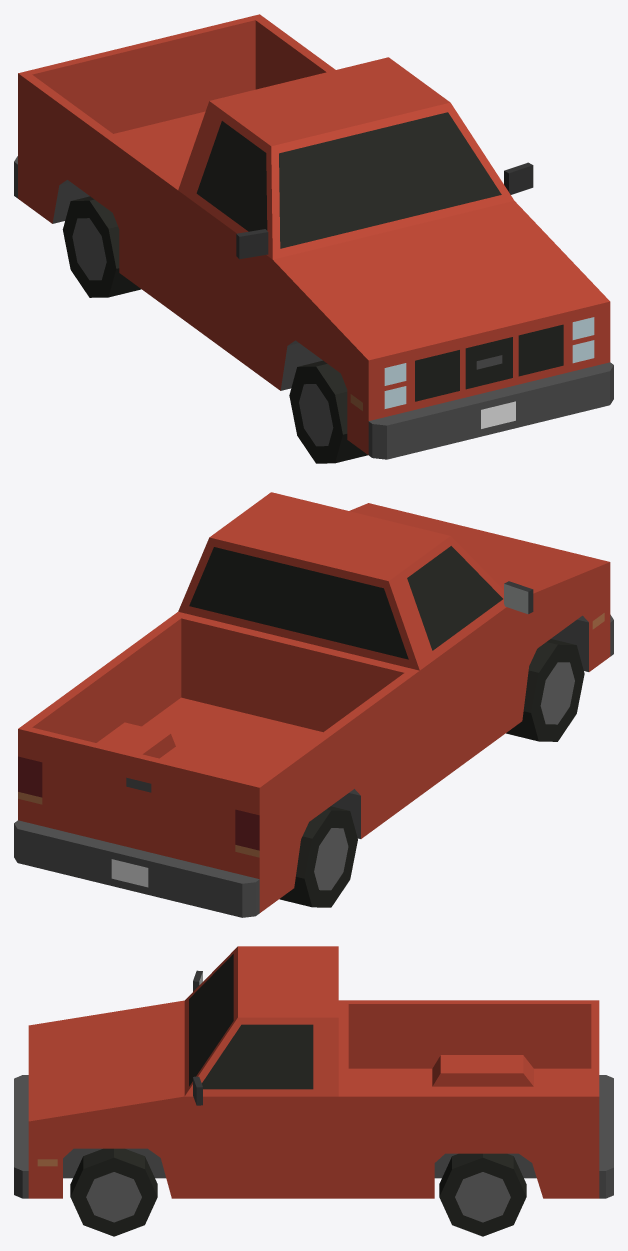
Rendered from Veh_Pickup_02_Red.glb.
3 renders of one model, top to bottom at view 1: azimuth 30°, elevation 25°; view 2: azimuth 150°, elevation 25°; view 3: azimuth 270°, elevation 25°, orthographic. The views are drawn at different scales.
Visible parts, largest first — view 1: Pickup_02_Red, Wheel_FR, Wheel_RR; view 2: Pickup_02_Red, Wheel_FR, Wheel_RR; view 3: Pickup_02_Red, Wheel_FL, Wheel_RL.
Part boxes in pixels (x1,y1,x2,y2): Pickup_02_Red: (14,14,613,459); Wheel_FR: (289,360,367,463); Wheel_RR: (62,196,141,297); Pickup_02_Red: (14,492,613,917); Wheel_FR: (506,639,584,741); Wheel_RR: (279,806,357,907); Pickup_02_Red: (14,946,613,1198); Wheel_FL: (70,1148,157,1236); Wheel_RL: (439,1153,526,1236).
Size of the model in its own units: 1.43 by 1.18 by 3.11.
Materials: 1 (1 with a texture image).
